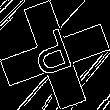P_S: (29, 25, 81, 85)
